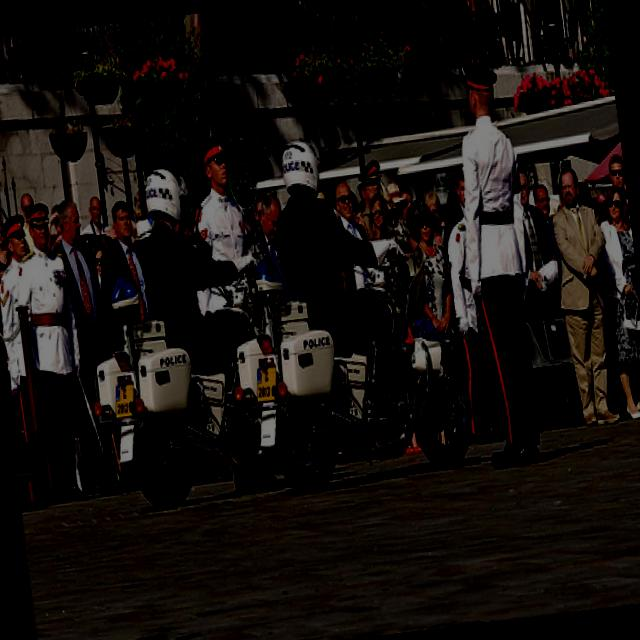Vehicle: (217, 236, 479, 498), (77, 258, 288, 518)
